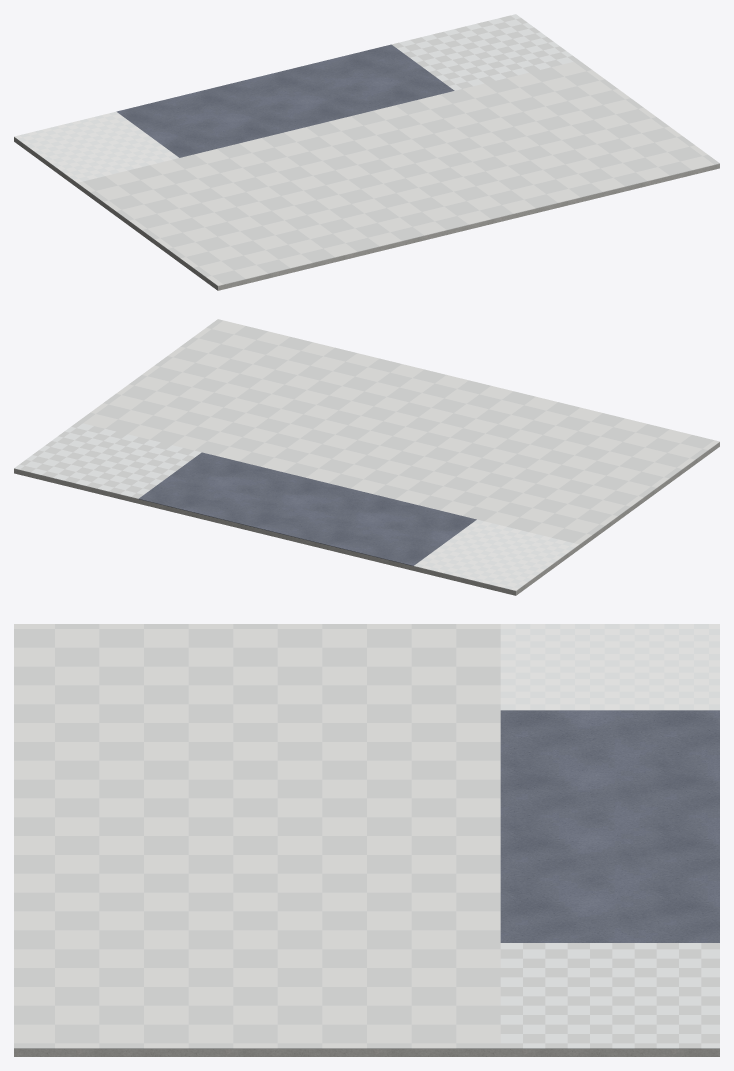
Rendered from sr_floor.glb.
3 views of the same model, one above another, from view 1: azimuth 30°, elevation 25°; view 2: azimuth 150°, elevation 25°; view 3: azimuth 270°, elevation 25° (orthographic). The views are drawn at different scales.
Visible parts, largest first — view 1: sr_floor_tile_b, sr_floor_tile_a, sr_floor_carpet, sr_floor_tile, sr_floor_porcelain, sr_floor_concrete; view 2: sr_floor_tile_b, sr_floor_tile_a, sr_floor_carpet, sr_floor_tile, sr_floor_porcelain, sr_floor_concrete; view 3: sr_floor_tile_b, sr_floor_tile_a, sr_floor_carpet, sr_floor_tile, sr_floor_porcelain, sr_floor_concrete.
Boxes of the visible parts, box(x1,y1,x2,y2) form: sr_floor_tile_b: box(83, 15, 719, 284); sr_floor_tile_a: box(77, 62, 713, 286); sr_floor_carpet: box(116, 44, 454, 157); sr_floor_tile: box(17, 14, 573, 181); sr_floor_porcelain: box(14, 113, 174, 182); sr_floor_concrete: box(14, 137, 719, 290); sr_floor_tile_b: box(19, 319, 713, 542); sr_floor_tile_a: box(83, 320, 719, 544); sr_floor_carpet: box(139, 452, 476, 566); sr_floor_tile: box(14, 423, 574, 589); sr_floor_porcelain: box(417, 521, 579, 591); sr_floor_concrete: box(14, 442, 719, 595); sr_floor_tile_b: box(14, 624, 719, 1048); sr_floor_tile_a: box(14, 624, 500, 1048); sr_floor_carpet: box(500, 710, 719, 942); sr_floor_tile: box(500, 624, 719, 1048); sr_floor_porcelain: box(500, 624, 719, 710); sr_floor_concrete: box(14, 1049, 719, 1056).
Bounding box in the file's own units: 13.5 × 0.13 × 9.5.
6 materials, 2 textured.
